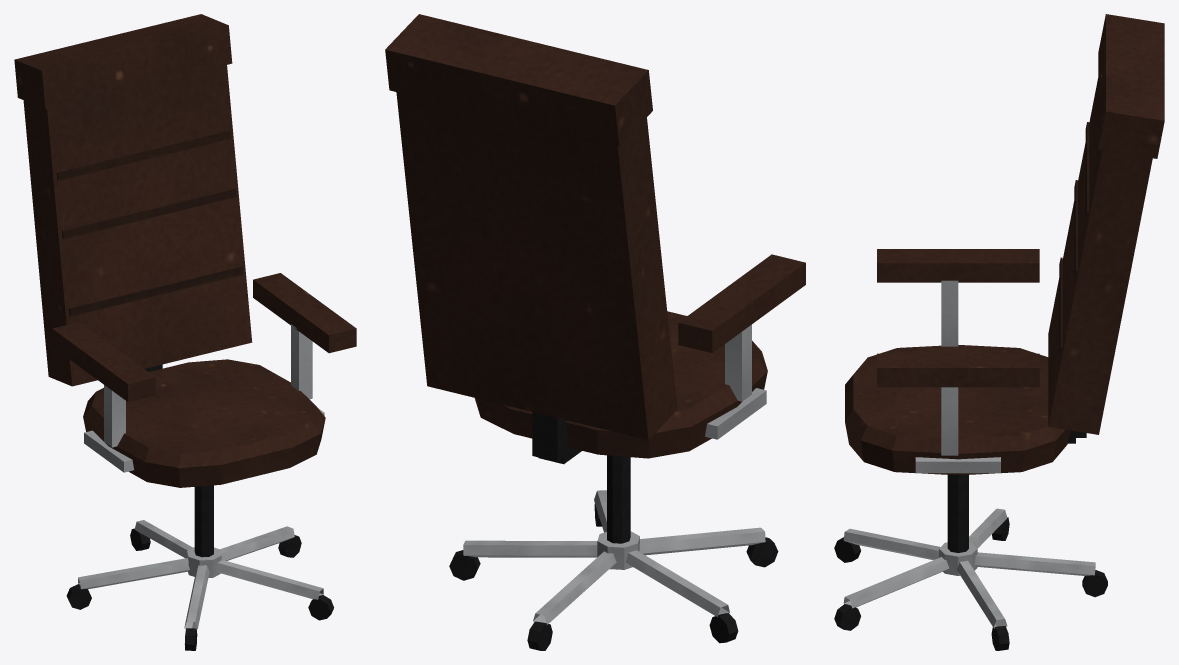
File: Chair_ChiefDoctor.fbx
The picture shows the model from 3 angles, left to right: view 1: azimuth 30°, elevation 25°; view 2: azimuth 150°, elevation 25°; view 3: azimuth 270°, elevation 25°; orthographic projection. The views are drawn at different scales.
Parts seen in each view (by area): view 1: кресло главврача; view 2: кресло главврача; view 3: кресло главврача.
Part boxes in pixels (x1,y1,x2,y2): кресло главврача: (14,14,356,650); кресло главврача: (385,14,805,650); кресло главврача: (834,14,1164,650).
Bounding box in the file's own units: 0.6735 × 1.37 × 0.7736.
Materials: 1 (1 with a texture image).
